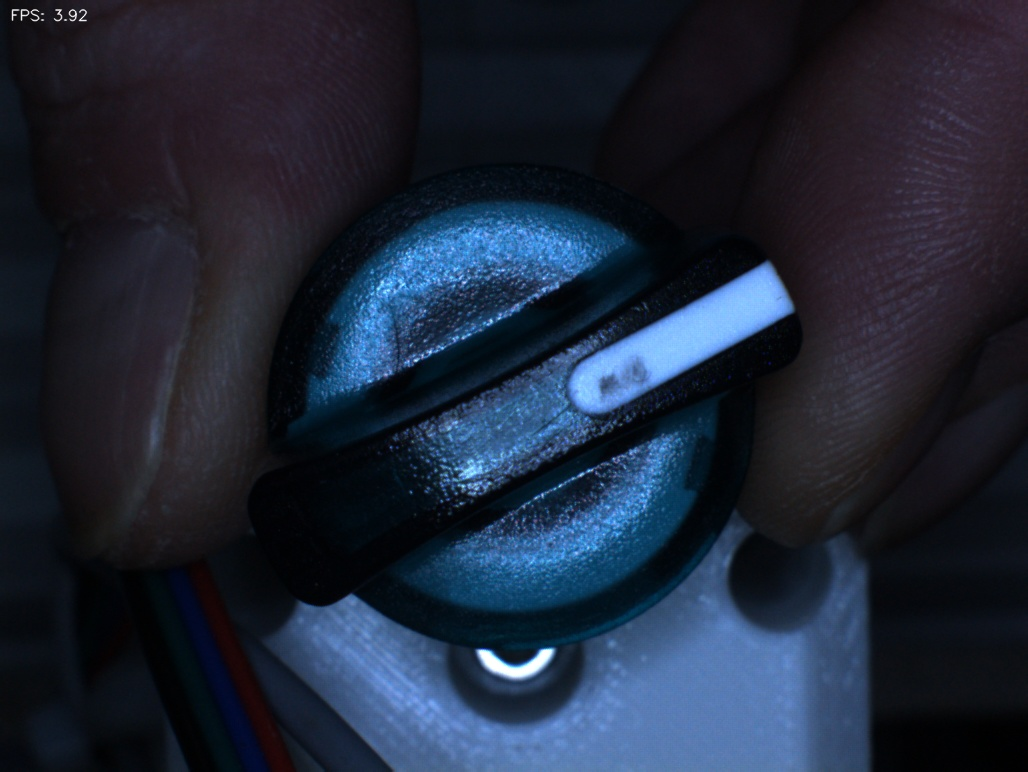PointNoir: (570, 334, 676, 453)
